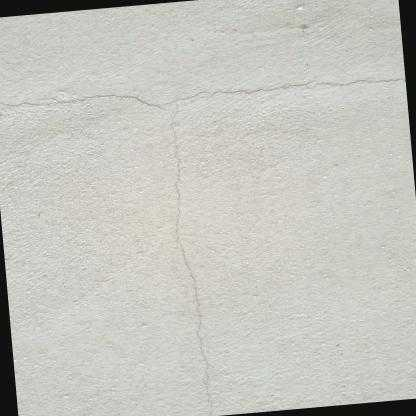crack: (0, 76, 405, 416)
